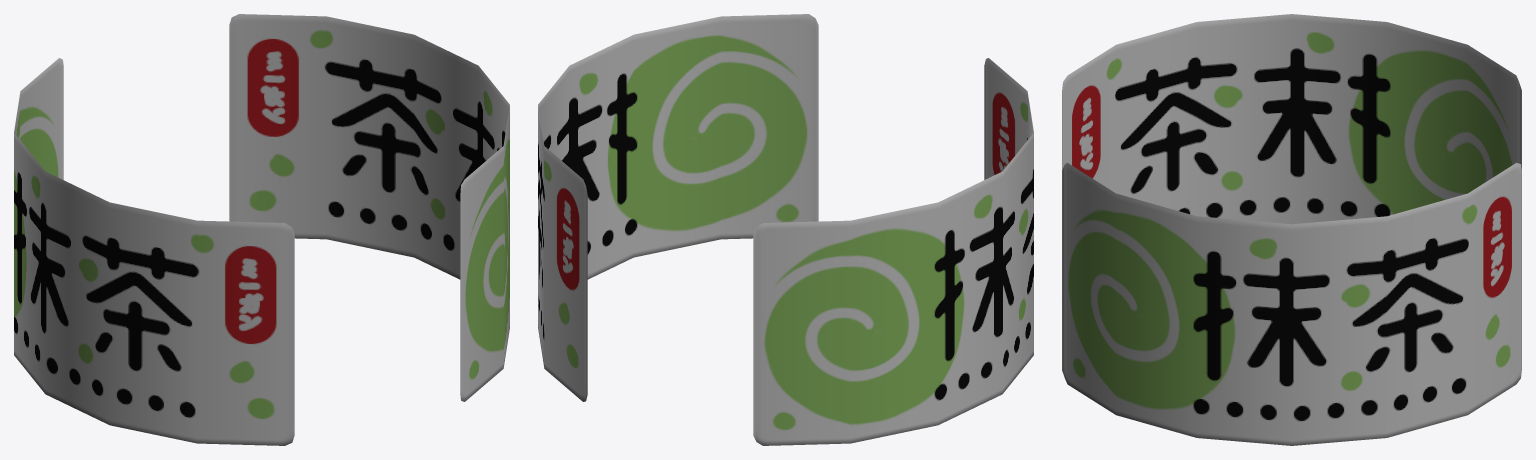
Rendered from Matcha_Tea_Label.fbx.
3 renders of one model, left to right at view 1: azimuth 30°, elevation 25°; view 2: azimuth 150°, elevation 25°; view 3: azimuth 270°, elevation 25°, orthographic.
Parts seen in each view (by area): view 1: Matcha_Tea_Label; view 2: Matcha_Tea_Label; view 3: Matcha_Tea_Label.
Boxes of the visible parts, x1=… form: Matcha_Tea_Label: x1=14, y1=14, x2=509, y2=445; Matcha_Tea_Label: x1=538, y1=14, x2=1033, y2=445; Matcha_Tea_Label: x1=1062, y1=14, x2=1521, y2=445.
Bounding box in the file's own units: 30.52 × 15.01 × 28.2.
